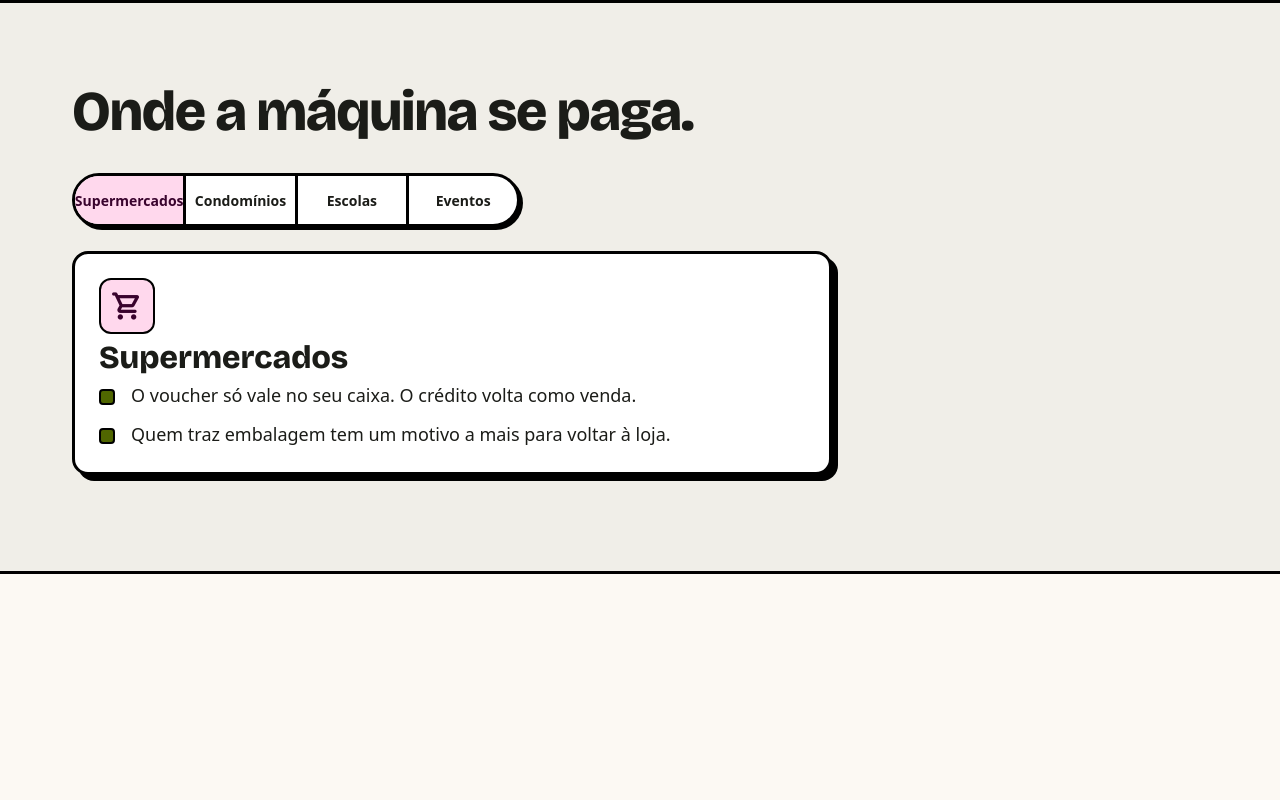
Test: Para quem › o clique troca a aba e o painel
Click the tab "Escolas" at (350, 200), box [295,176,406,224]
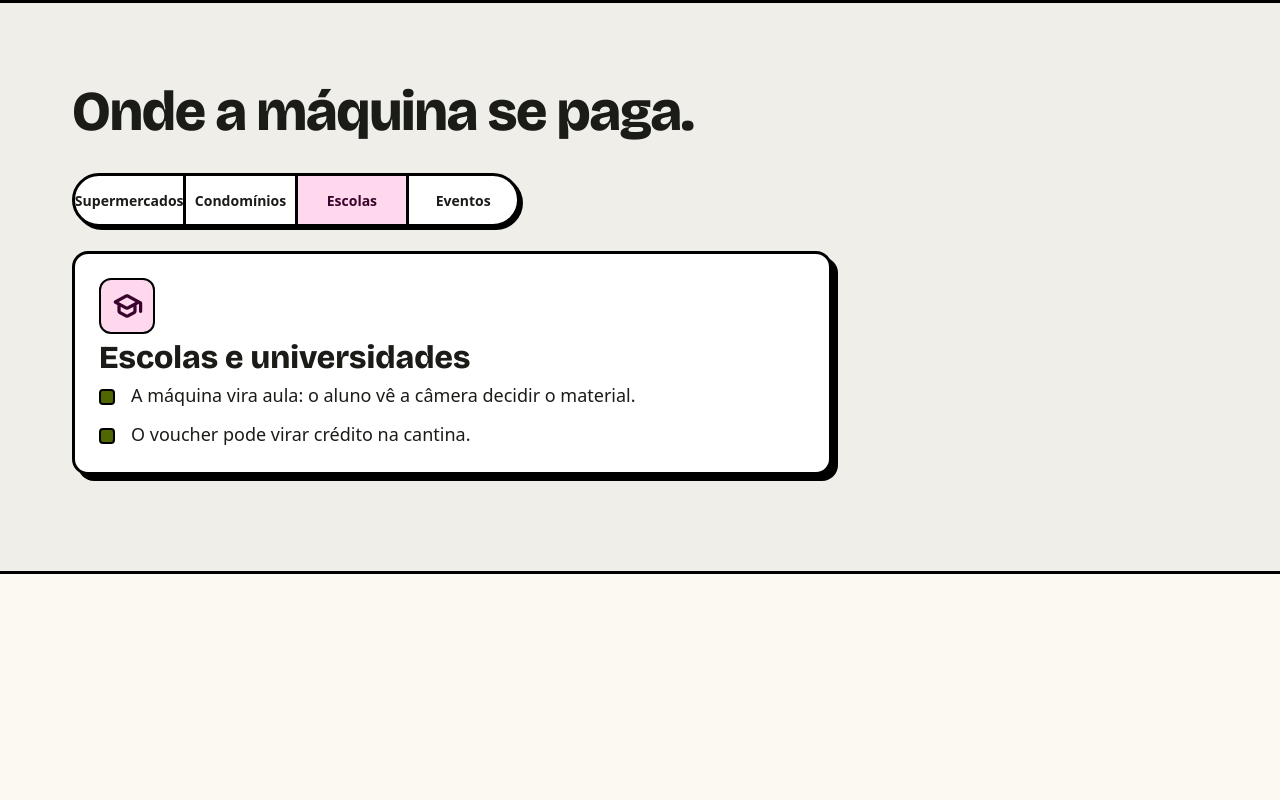
Expected: the number of panels is 1, [72,251,832,475]
Expected: the panel shows "Escolas e universidades", [99,338,470,377]
Expected: the panel shows "A máquina vira aula: o aluno vê a câmera decidir o material.", [131,383,636,407]
